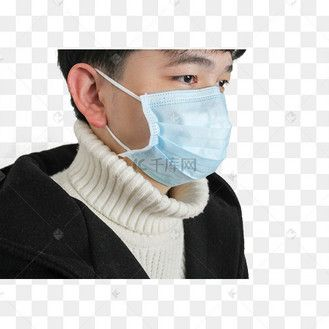mask: (113, 49, 242, 181)
